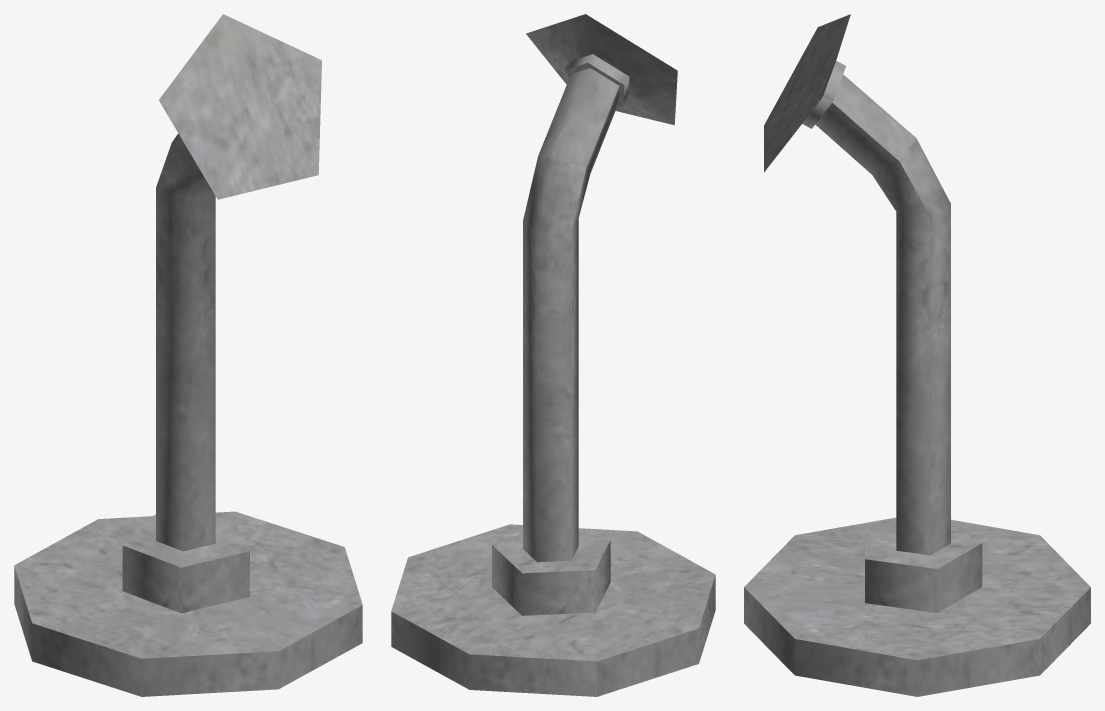
The model's file is Watering_can_01.glb.
3 renders of one model, left to right at view 1: azimuth 30°, elevation 25°; view 2: azimuth 150°, elevation 25°; view 3: azimuth 270°, elevation 25°, orthographic. The views are drawn at different scales.
Visible parts, largest first — view 1: Watering_can_01; view 2: Watering_can_01; view 3: Watering_can_01.
Part boxes in pixels (left/top/right/bottom): Watering_can_01: left=14, top=14, right=362, bottom=696; Watering_can_01: left=391, top=14, right=715, bottom=696; Watering_can_01: left=744, top=14, right=1090, bottom=696.
Bounding box in the file's own units: 0.3353 × 0.6505 × 0.3353.
2 materials, 2 textured.
